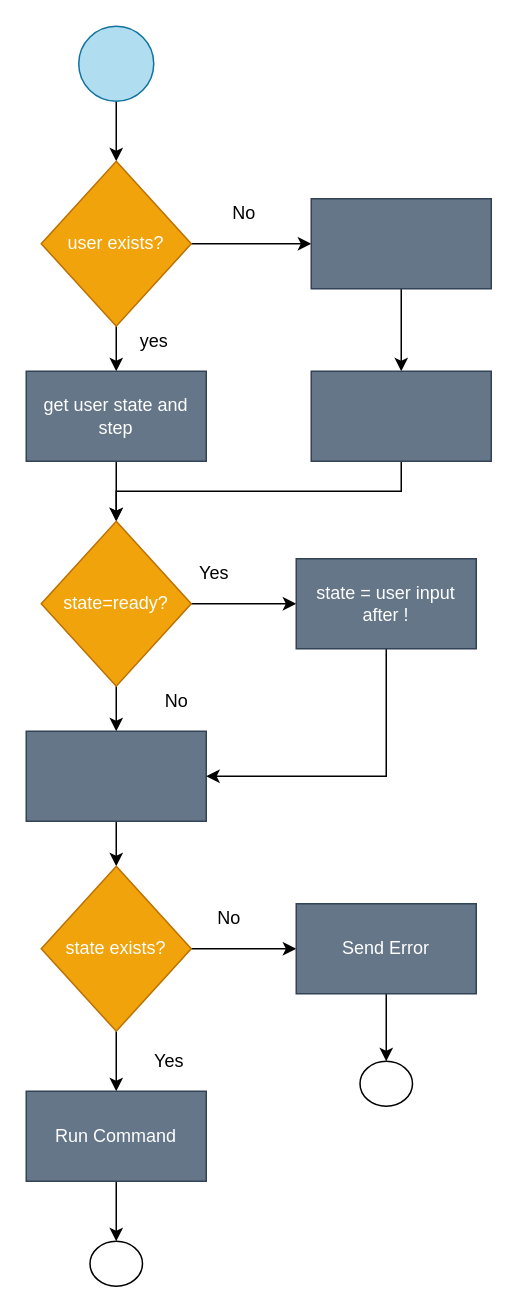
The diagram is 518 pixels wide and 1313 high, and some of its shapes have lost their labels. The shapes that lost their labels are listed below. From the top down, each one's box as (x1, y1, x2, y2) in pixels, then its label:
(77, 25, 154, 101): start
(310, 197, 491, 289): create new user
(310, 370, 491, 461): state = 'ready' step = 0
(25, 730, 206, 821): state = checkStateDB
